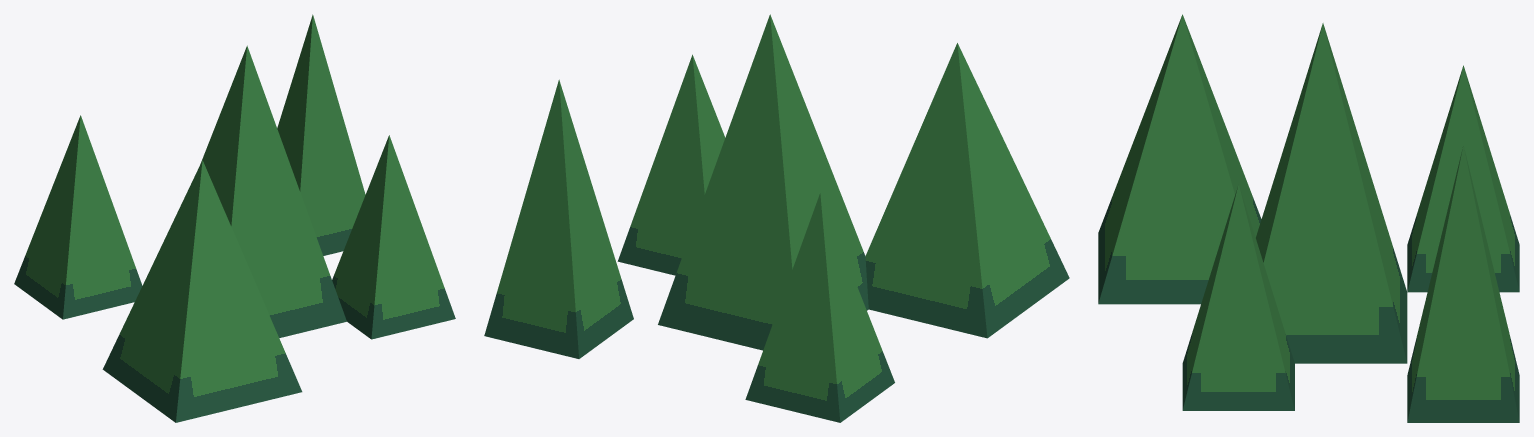
The model's file is tree5.gltf.
3 views of the same model, side by side, from view 1: azimuth 30°, elevation 25°; view 2: azimuth 150°, elevation 25°; view 3: azimuth 270°, elevation 25° (orthographic). The views are drawn at different scales.
Parts seen in each view (by area): view 1: pyramid; view 2: pyramid; view 3: pyramid.
Boxes of the visible parts, <box> form: pyramid: <box>14,14,455,422</box>; pyramid: <box>484,14,1069,422</box>; pyramid: <box>1098,14,1519,422</box>.
Bounding box in the file's own units: 1 × 0.75 × 0.9375.
